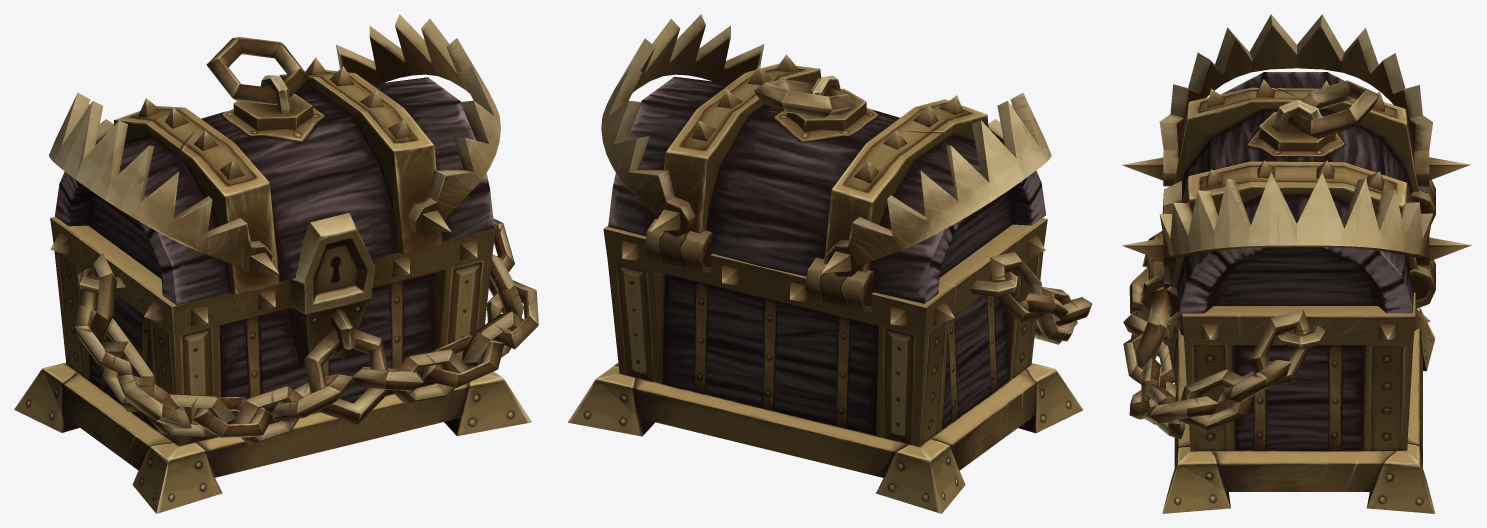
The model's file is Chest_4_animation.FBX.
The picture shows the model from 3 angles, left to right: view 1: azimuth 30°, elevation 25°; view 2: azimuth 150°, elevation 25°; view 3: azimuth 270°, elevation 25°; orthographic projection. The views are drawn at different scales.
Visible parts, largest first — view 1: Chest_4, Chest_4_cap; view 2: Chest_4, Chest_4_cap; view 3: Chest_4_cap, Chest_4.
Boxes of the visible parts, box(x1,y1,x2,y2) form: Chest_4: box(14, 213, 538, 513); Chest_4_cap: box(49, 14, 500, 305); Chest_4: box(567, 218, 1092, 513); Chest_4_cap: box(601, 14, 1051, 303); Chest_4_cap: box(1122, 14, 1471, 313); Chest_4: box(1123, 179, 1435, 513).
Bounding box in the file's own units: 132 × 104 × 97.59.
